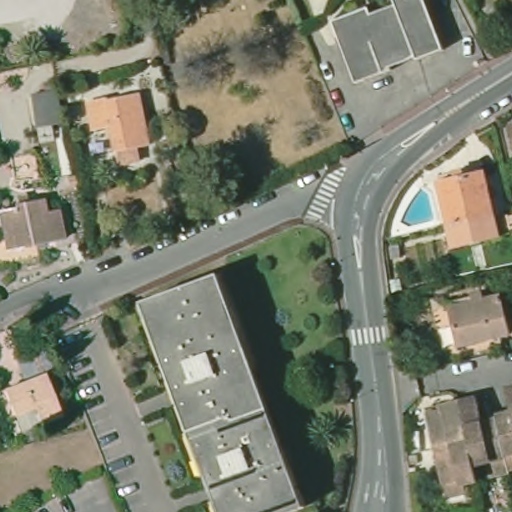pool: (401, 186, 442, 234)
